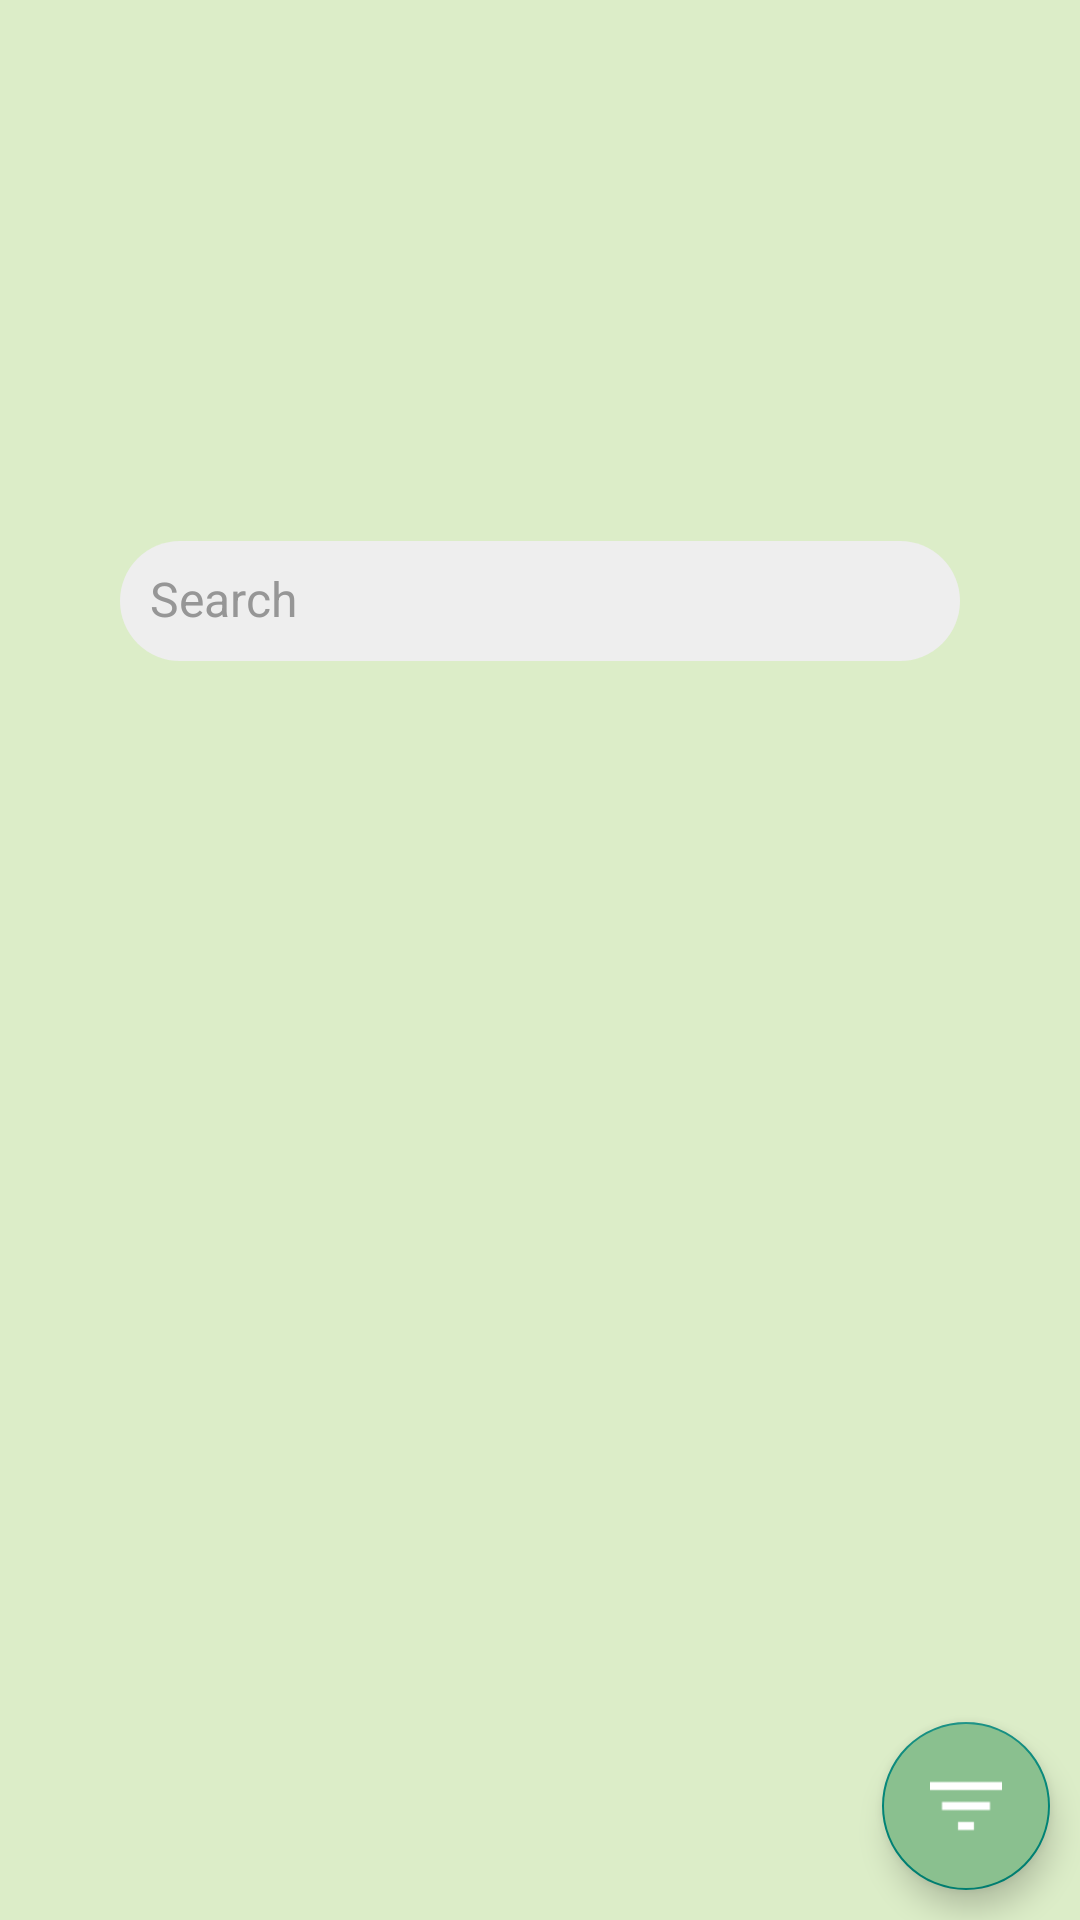

Where to tap for icons on this 1080w x 1920h app screen, as [x,y]:
filter: [966,1806]
